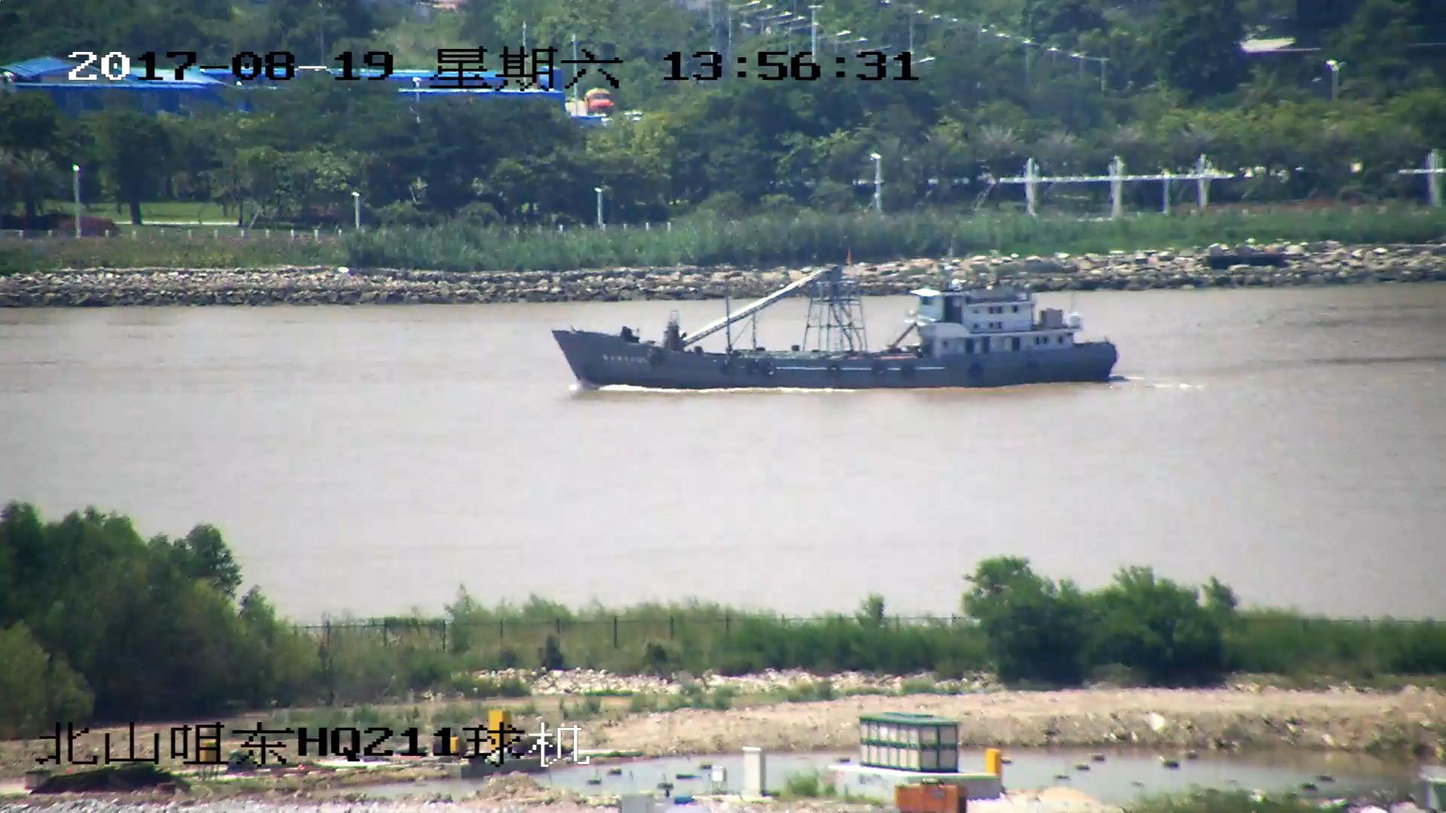fishing boat: (552, 261, 1117, 388)
